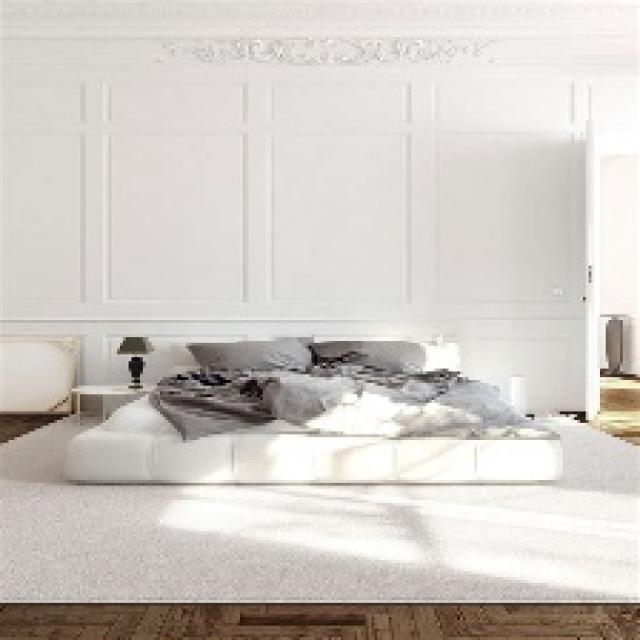Bed: (60, 334, 563, 486)
